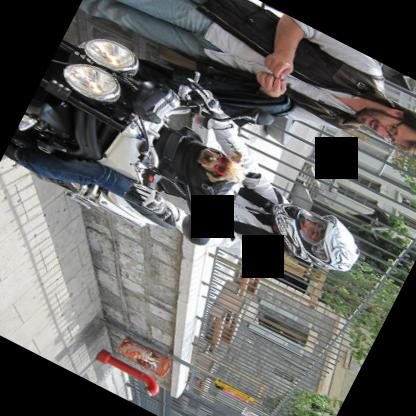backpack: (220, 184, 281, 253)
